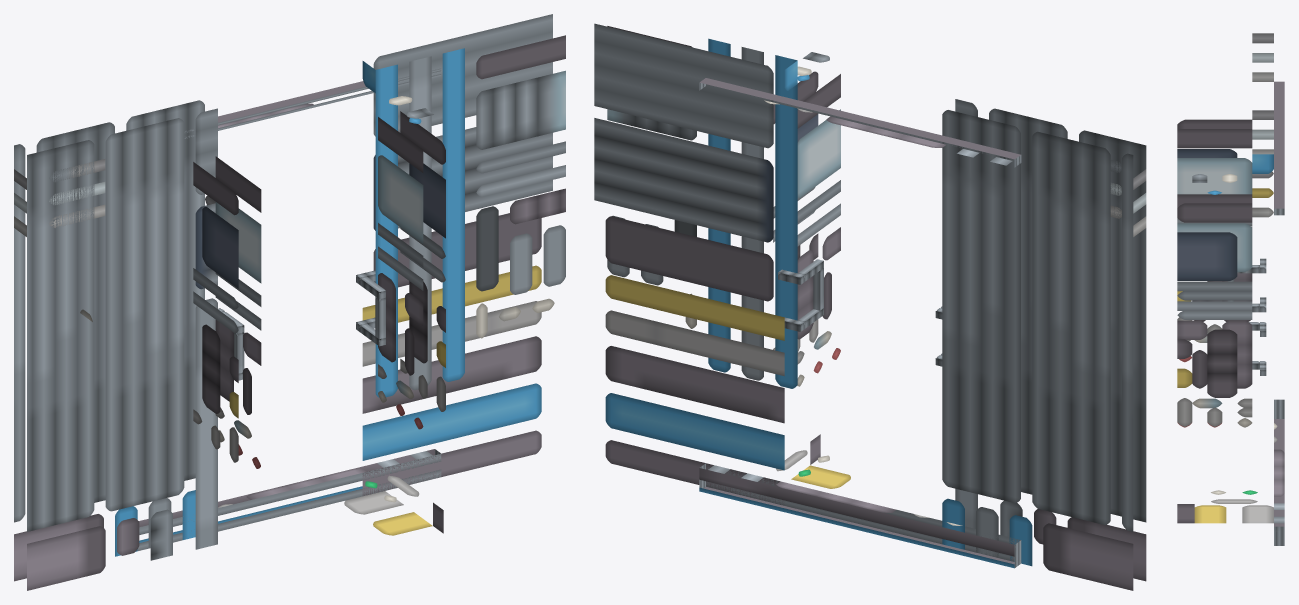
Rendered from end_face_original_25t_3.obj.
The picture shows the model from 3 angles, left to right: view 1: azimuth 30°, elevation 25°; view 2: azimuth 150°, elevation 25°; view 3: azimuth 270°, elevation 25°; orthographic projection. The views are drawn at different scales.
Visible parts, largest first — view 1: cube; view 2: cube; view 3: cube.
Part boxes in pixels (box(x1,y1,x2,y2)): cube: box(14, 14, 565, 590); cube: box(594, 23, 1146, 590); cube: box(1177, 33, 1284, 545).
Size of the model in its own units: 2.99 by 2.31 by 0.625.
